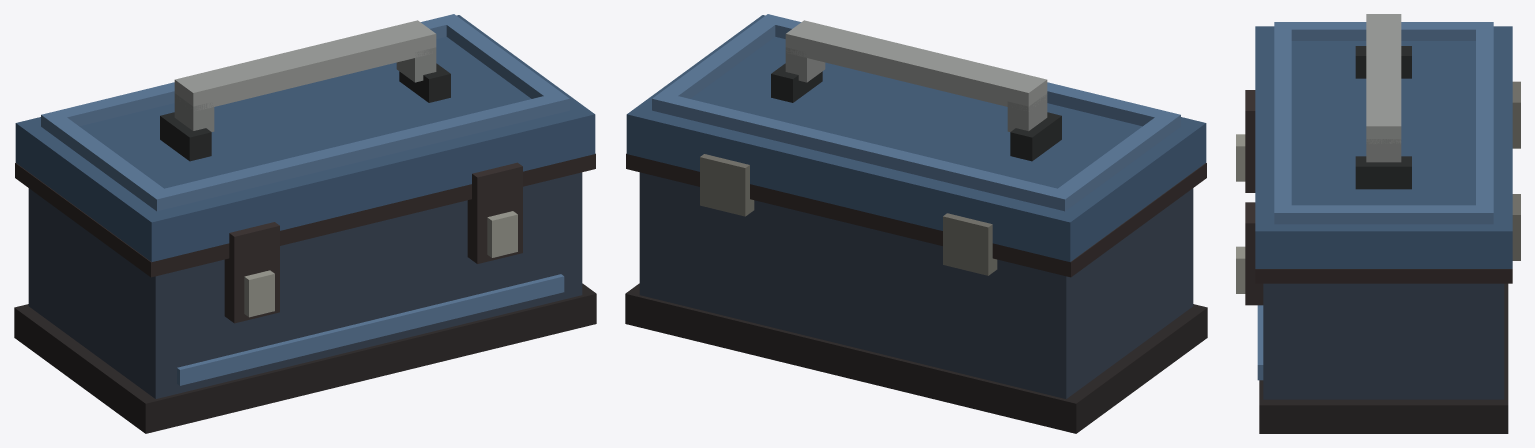
The model's file is CMU3DMechanicalToolbox.glb.
3 views of the same model, side by side, from view 1: azimuth 30°, elevation 25°; view 2: azimuth 150°, elevation 25°; view 3: azimuth 270°, elevation 25° (orthographic). The views are drawn at different scales.
Parts seen in each view (by area): view 1: colored box body, closed lid, dark lower shell, lid end bevel (×2), raised carry handle, lid seam, front lower strengthening lip, latch housing (×2), lid side bevel (×2), handle mounting pivot (×2), steel latch (×2), raised handle left (+1 smaller); view 2: colored box body, closed lid, dark lower shell, lid end bevel (×2), raised carry handle, lid seam, lid side bevel (×2), rear hinge (×2), handle mounting pivot (×2), raised handle left, raised handle right; view 3: closed lid, colored box body, dark lower shell, lid side bevel (×2), lid end bevel (×2), raised carry handle, lid seam, handle mounting pivot (×2), latch housing (×2), rear hinge (×2), steel latch (×2), raised handle right (+1 smaller).
Boxes of the visible parts, x1,y1,x2,y2 form: colored box body: (28,172,582,398); closed lid: (15,15,595,261); dark lower shell: (14,283,596,433); lid end bevel (×2): (58,18,553,206); raised carry handle: (174,20,436,110); lid seam: (15,153,595,277); front lower strengthening lip: (177,274,564,385); latch housing (×2): (224,162,522,323); lid side bevel (×2): (41,14,569,211); handle mounting pivot (×2): (160,63,450,161); steel latch (×2): (244,211,517,317); raised handle left: (174,93,214,131); colored box body: (639,172,1193,398); closed lid: (626,15,1206,261); dark lower shell: (625,283,1207,433); lid end bevel (×2): (668,18,1163,206); raised carry handle: (785,20,1047,111); lid seam: (626,153,1206,277); lid side bevel (×2): (652,14,1180,211); rear hinge (×2): (700,154,997,275); handle mounting pivot (×2): (771,63,1061,161); raised handle left: (1007,93,1047,131); raised handle right: (785,47,825,82); closed lid: (1255,26,1512,268); colored box body: (1263,283,1504,399); dark lower shell: (1259,283,1508,433); lid side bevel (×2): (1274,22,1493,224); lid end bevel (×2): (1274,29,1493,205); raised carry handle: (1366,14,1401,143); lid seam: (1255,269,1512,283); handle mounting pivot (×2): (1355,46,1411,189); latch housing (×2): (1245,90,1263,305); rear hinge (×2): (1512,81,1520,260); steel latch (×2): (1236,134,1245,293); raised handle right: (1366,139,1401,162).
Bounding box in the file's own units: 0.594 × 0.345 × 0.343.
